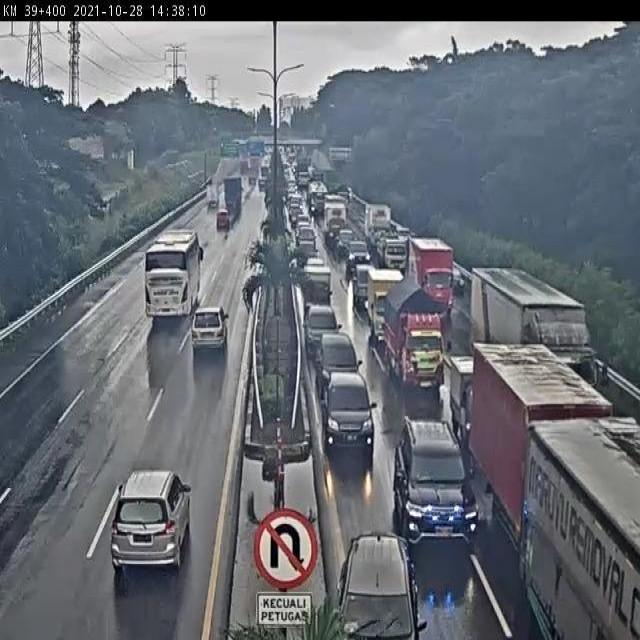big bus: (339, 530, 434, 640), (138, 228, 210, 321)
big truck: (469, 340, 608, 544), (528, 421, 640, 640), (471, 263, 598, 408), (388, 284, 441, 389), (449, 354, 498, 442), (409, 240, 455, 317), (366, 262, 409, 342)
car: (392, 412, 477, 552), (107, 456, 199, 576), (323, 369, 383, 464), (316, 336, 365, 408), (303, 301, 350, 371), (192, 303, 235, 353)
small truck: (301, 262, 339, 314)
